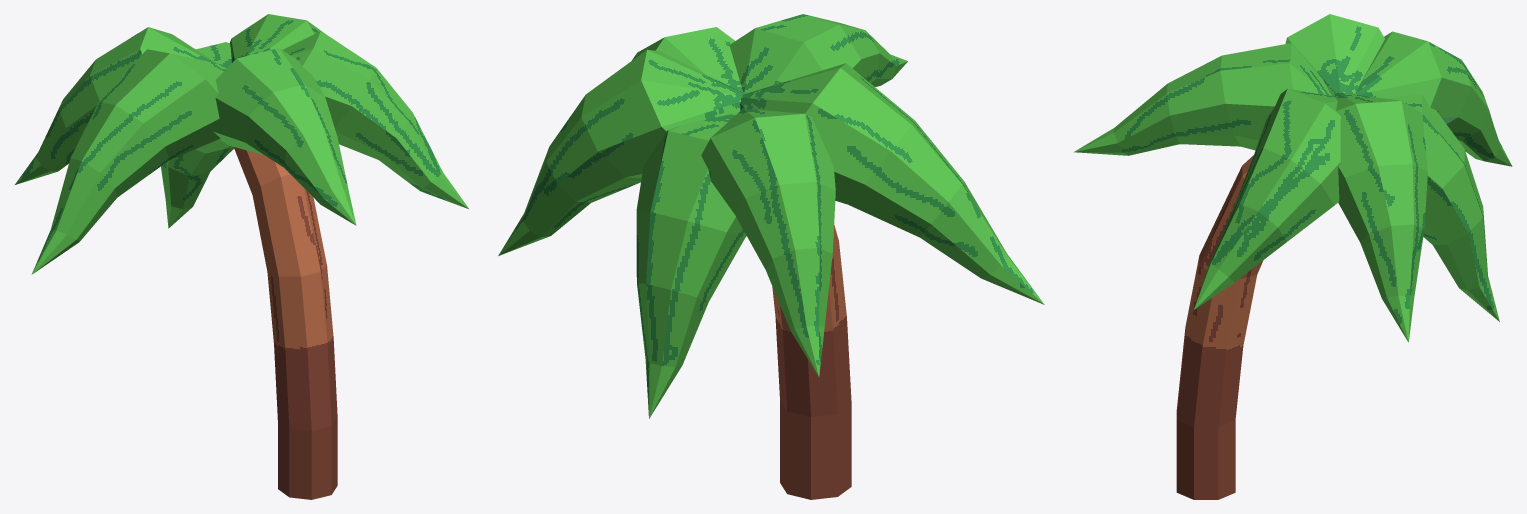
The model's file is PalmTree.gltf.
3 views of the same model, side by side, from view 1: azimuth 30°, elevation 25°; view 2: azimuth 150°, elevation 25°; view 3: azimuth 270°, elevation 25° (orthographic). The views are drawn at different scales.
Parts seen in each view (by area): view 1: Tree; view 2: Tree; view 3: Tree.
Part boxes in pixels (x1=…): Tree: x1=15, y1=14, x2=468, y2=499; Tree: x1=498, y1=14, x2=1044, y2=499; Tree: x1=1074, y1=14, x2=1512, y2=499.
Size of the model in its own units: 6.26 by 6.09 by 5.61.
Materials: 1 (1 with a texture image).
